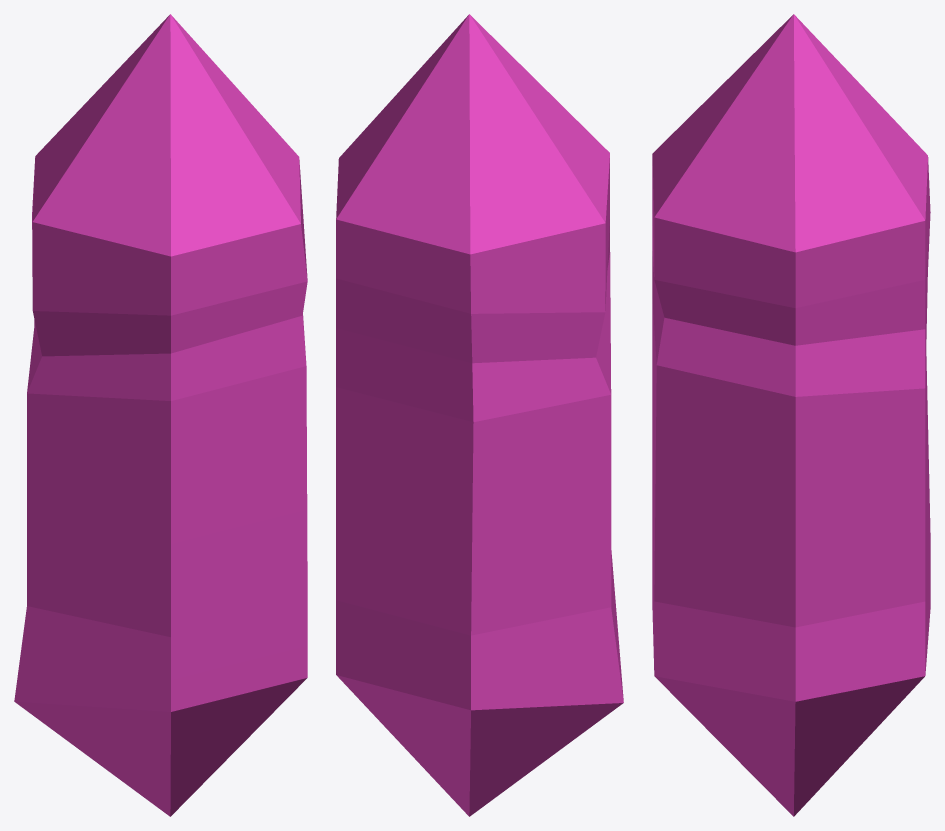
The model's file is Crystal2 Damaged.glb.
3 renders of one model, left to right at view 1: azimuth 30°, elevation 25°; view 2: azimuth 150°, elevation 25°; view 3: azimuth 270°, elevation 25°, orthographic.
Parts seen in each view (by area): view 1: Crystal2_Damaged; view 2: Crystal2_Damaged; view 3: Crystal2_Damaged.
Part boxes in pixels (bbox=[...]): Crystal2_Damaged: bbox=[14, 14, 307, 816]; Crystal2_Damaged: bbox=[336, 14, 623, 816]; Crystal2_Damaged: bbox=[652, 14, 930, 816].
Size of the model in its own units: 0.1344 by 0.3583 by 0.1124.
